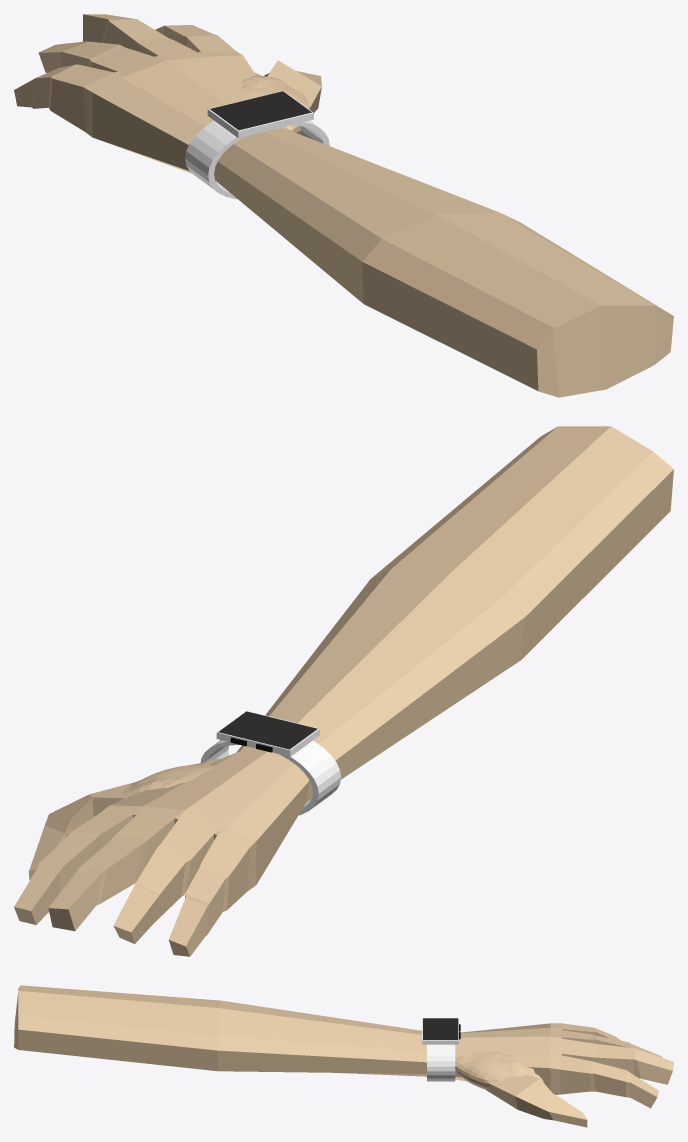
File: HandWithSecondWatch.gltf
The picture shows the model from 3 angles, top to bottom: view 1: azimuth 30°, elevation 25°; view 2: azimuth 150°, elevation 25°; view 3: azimuth 270°, elevation 25°; orthographic projection. The views are drawn at different scales.
Visible parts, largest first — view 1: Cube, Cylinder, Plane.002_Plane.003, Cube.001; view 2: Cube, Cylinder, Plane.002_Plane.003, Cube.001; view 3: Cube, Cylinder, Plane.002_Plane.003, Cube.001.
Part boxes in pixels (left/top/right/bottom): Cube: left=14, top=14, right=673, bottom=397; Cylinder: left=185, top=120, right=329, bottom=199; Plane.002_Plane.003: left=210, top=91, right=311, bottom=130; Cube.001: left=207, top=90, right=313, bottom=137; Cube: left=14, top=426, right=673, bottom=956; Cylinder: left=200, top=740, right=341, bottom=815; Plane.002_Plane.003: left=218, top=711, right=317, bottom=749; Cube.001: left=216, top=710, right=319, bottom=756; Cube: left=14, top=985, right=673, bottom=1127; Cylinder: left=427, top=1044, right=455, bottom=1081; Plane.002_Plane.003: left=423, top=1018, right=458, bottom=1039; Cube.001: left=422, top=1018, right=458, bottom=1044.
Size of the model in its own units: 3.01 by 2.04 by 12.45.
